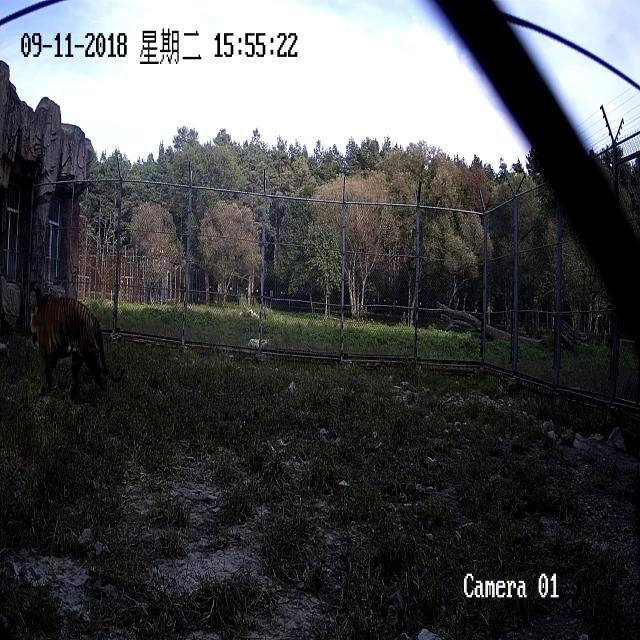Tiger: (18, 284, 131, 405)
